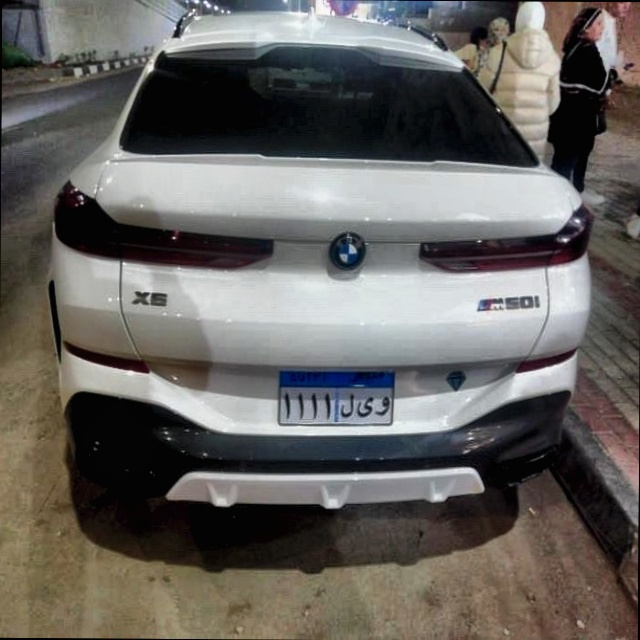License Plate: (274, 365, 397, 429)
